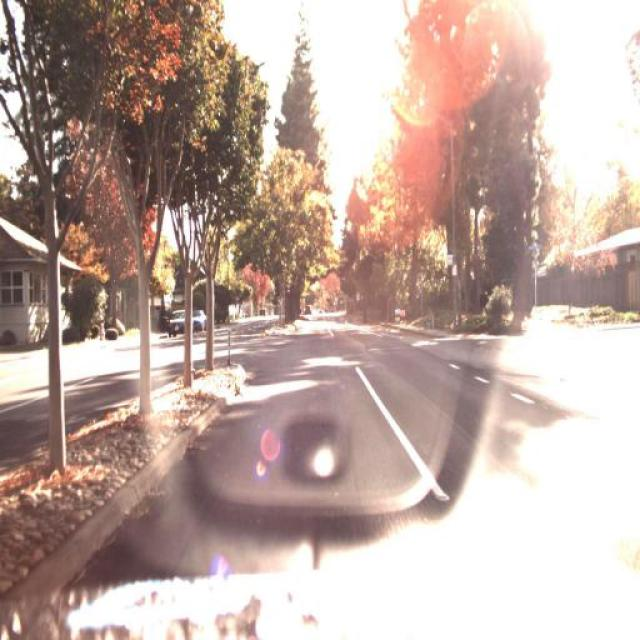car: (168, 298, 196, 347), (188, 305, 211, 341), (191, 307, 207, 334)
